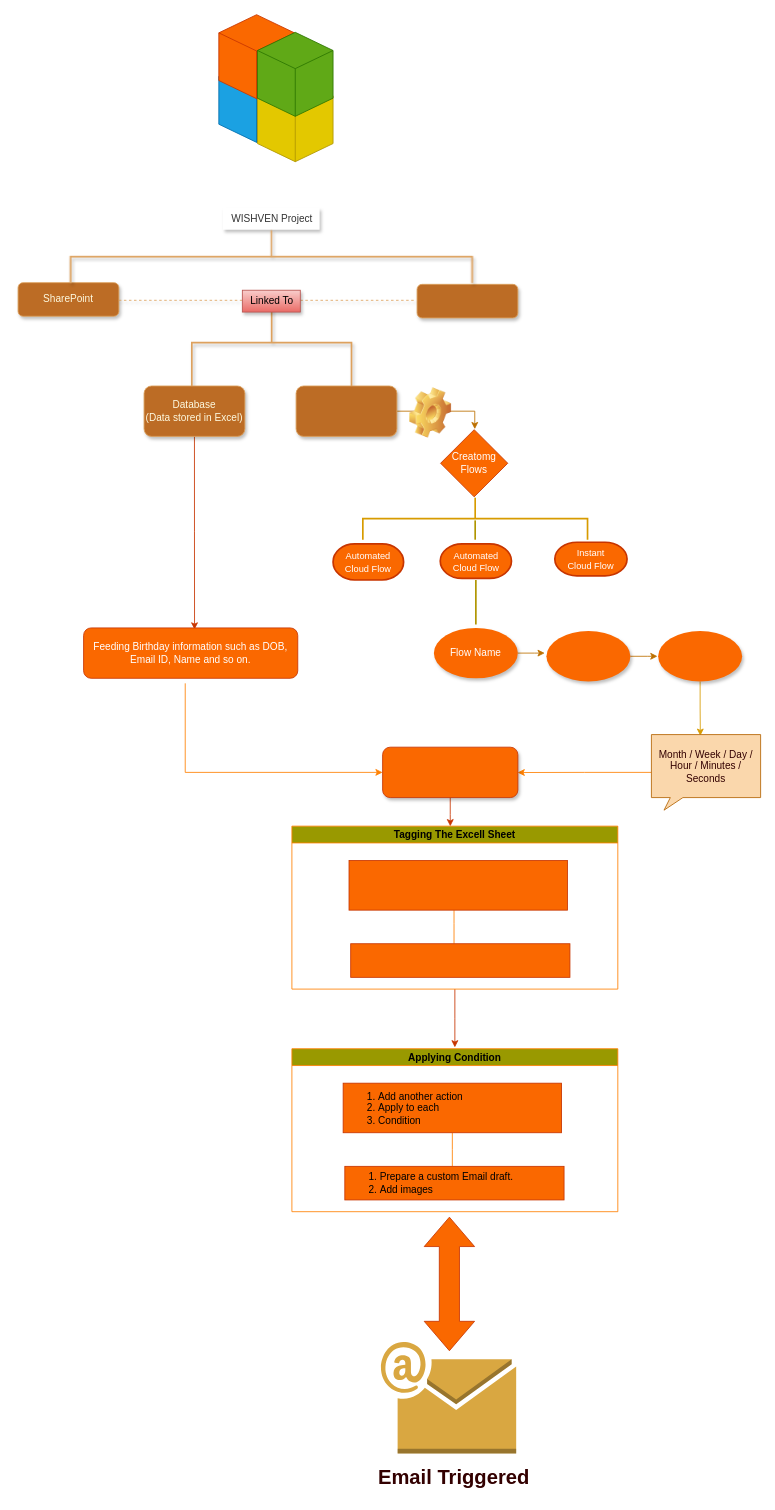
The diagram is 775 pixels wide and 1510 high, and some of its shapes have lost their labels. Here are the shapes that lost their labels. From the top down, the centre of each, then its label:
At (468,302): "OneDrive".
At (347,412): "PowerAutomate".
At (589,657): "Run This Flow".
At (700,657): "This flow will run".
At (450,773): "Merging the data from Excel into Powerautomate".
At (457,885): "Recurrence Add Action Choose an operation".
At (460,960): "Adding the path of excel sheet".
